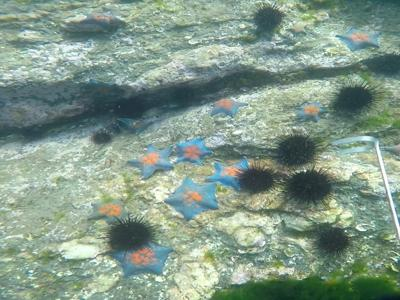urchin: (104, 217, 147, 246), (279, 136, 318, 166), (288, 172, 328, 200), (336, 85, 368, 109), (241, 168, 271, 190), (322, 228, 347, 252), (257, 7, 282, 28), (373, 53, 396, 74), (94, 133, 113, 145)
